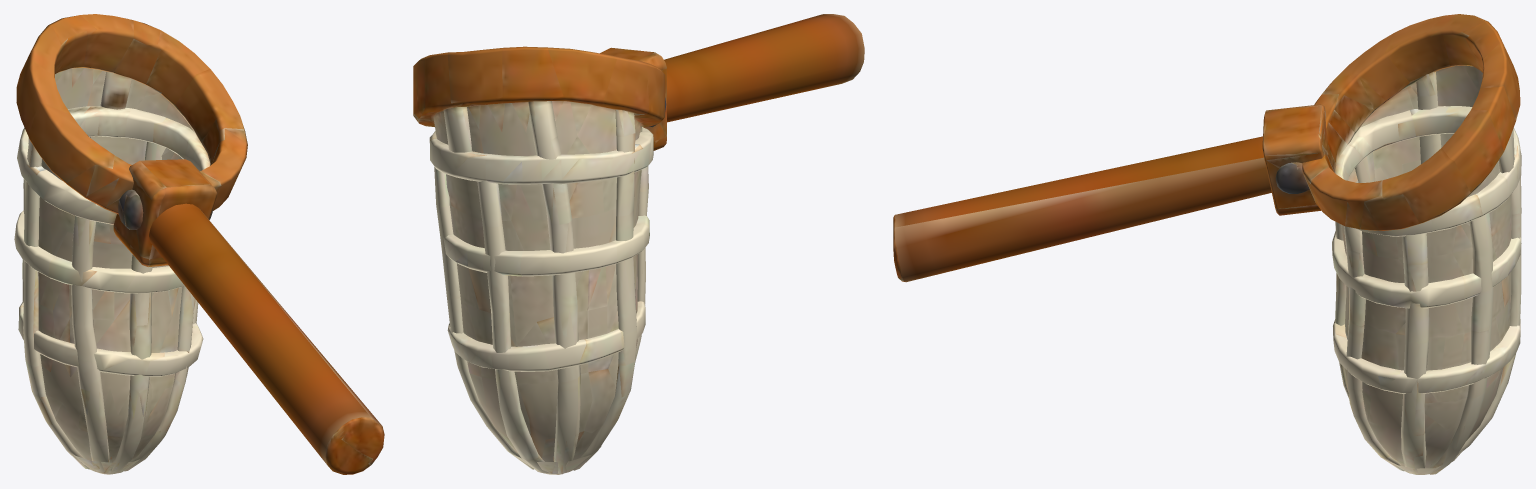
Rendered from tool_net.glb.
3 views of the same model, side by side, from view 1: azimuth 30°, elevation 25°; view 2: azimuth 150°, elevation 25°; view 3: azimuth 270°, elevation 25° (orthographic). The views are drawn at different scales.
Size of the model in its own units: 0.3898 by 0.7673 by 1.
Materials: 1 (1 with a texture image).
